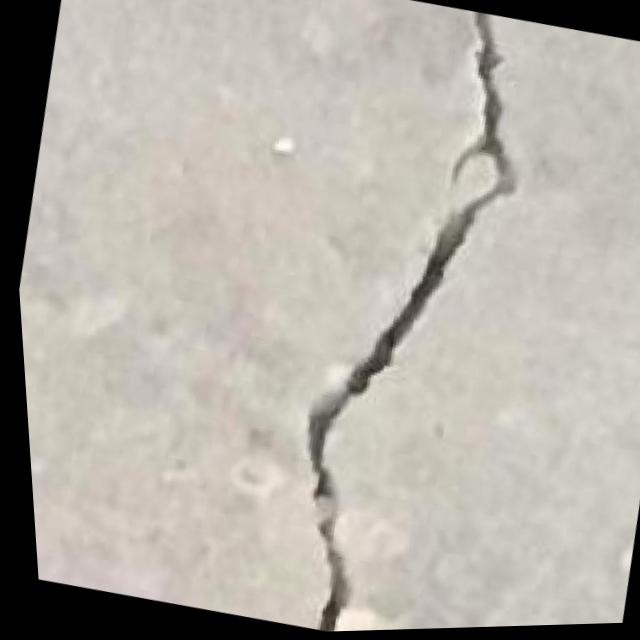Crack: (220, 0, 581, 635)
